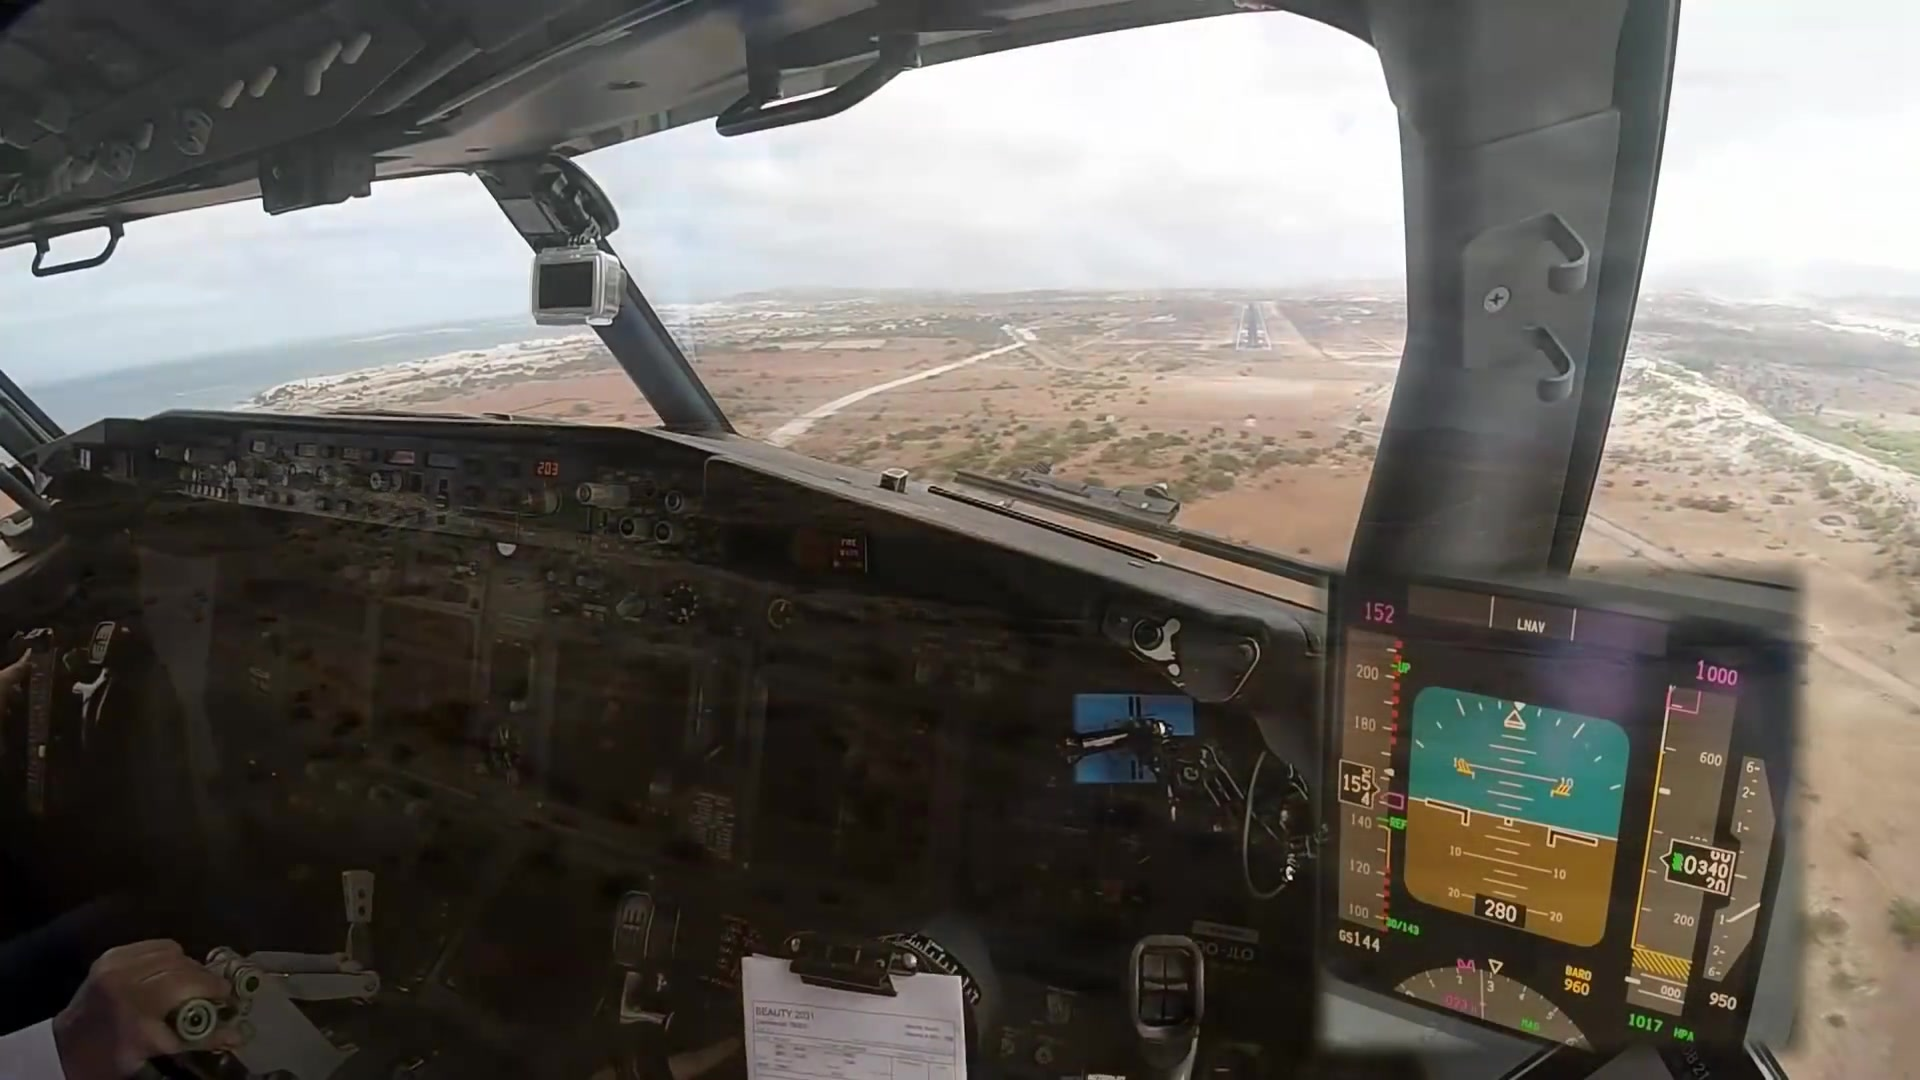runway: (1234, 302, 1273, 353)
